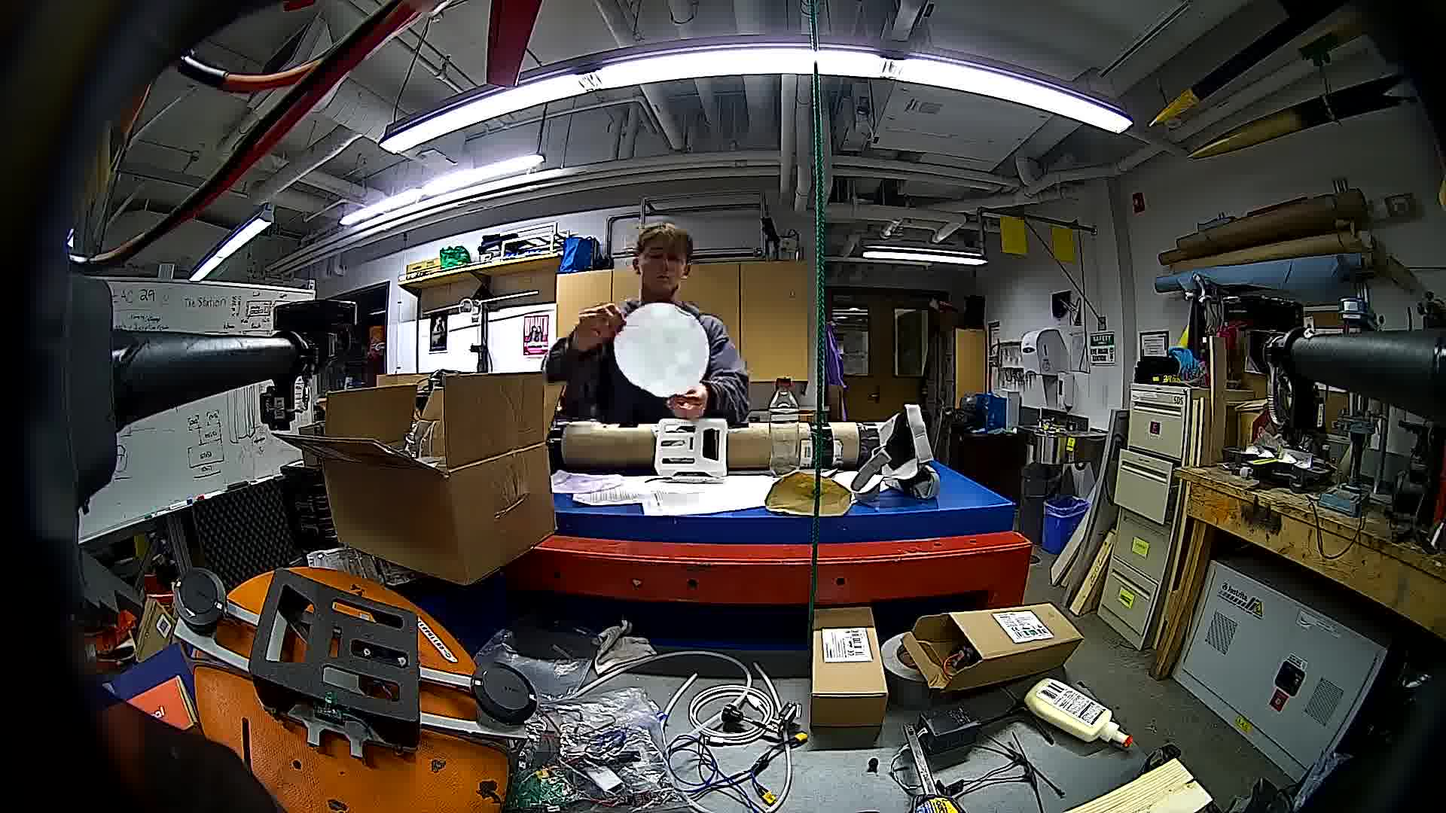Target: (614, 302, 711, 397)
